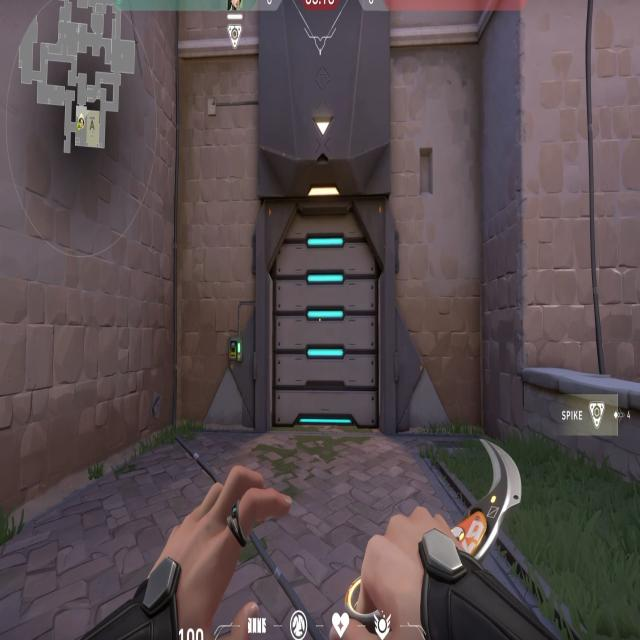A_Door: (258, 161, 398, 446)
